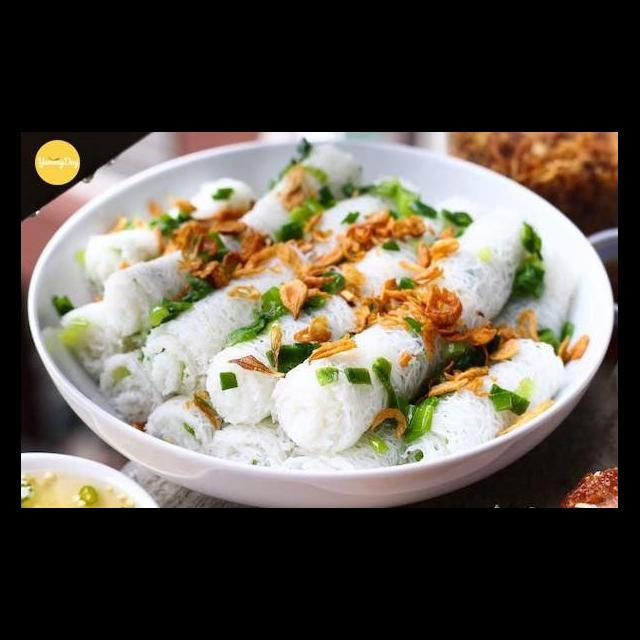banh hoi: (266, 307, 449, 458), (136, 256, 314, 400), (200, 287, 370, 428), (398, 332, 568, 470), (78, 173, 256, 298), (216, 139, 370, 265), (327, 194, 482, 315), (98, 229, 252, 343), (408, 207, 536, 344), (284, 167, 424, 287), (274, 395, 432, 484), (92, 339, 194, 424), (56, 296, 146, 388), (140, 383, 234, 460), (208, 408, 308, 476)
